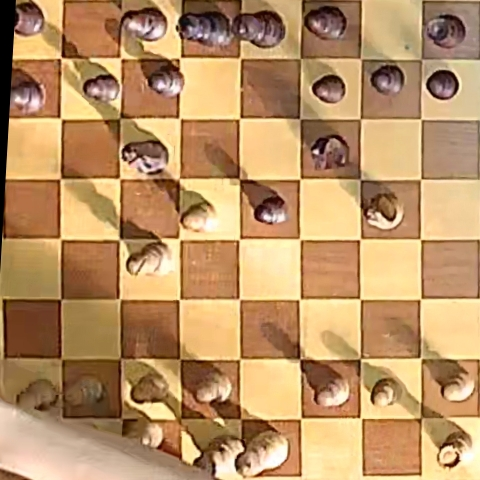black-bishop: (121, 7, 168, 42), (305, 5, 347, 40)
black-king: (233, 11, 285, 48)
black-knight: (122, 141, 169, 175), (310, 135, 349, 169)
black-pawn: (11, 79, 46, 114), (370, 64, 404, 96), (149, 66, 184, 97), (84, 74, 119, 103), (426, 69, 459, 99), (312, 75, 346, 103), (254, 197, 288, 224)
black-queen: (178, 11, 232, 45)
black-rook: (425, 14, 466, 48), (14, 1, 44, 36)
white-bishop: (128, 242, 172, 276)
white-king: (237, 430, 289, 477)
white-knight: (364, 192, 403, 230)
white-pawn: (17, 379, 58, 412), (65, 375, 107, 406), (194, 369, 232, 403), (132, 373, 169, 403), (181, 201, 216, 231), (315, 377, 350, 407), (441, 372, 475, 402), (371, 378, 399, 407)
white-queen: (192, 433, 245, 477)
white-rook: (437, 431, 473, 469)
